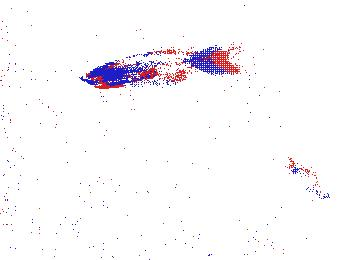X-ray fish: (62, 1, 126, 20)
redtail glassfish: (82, 46, 230, 87), (287, 157, 332, 201)
